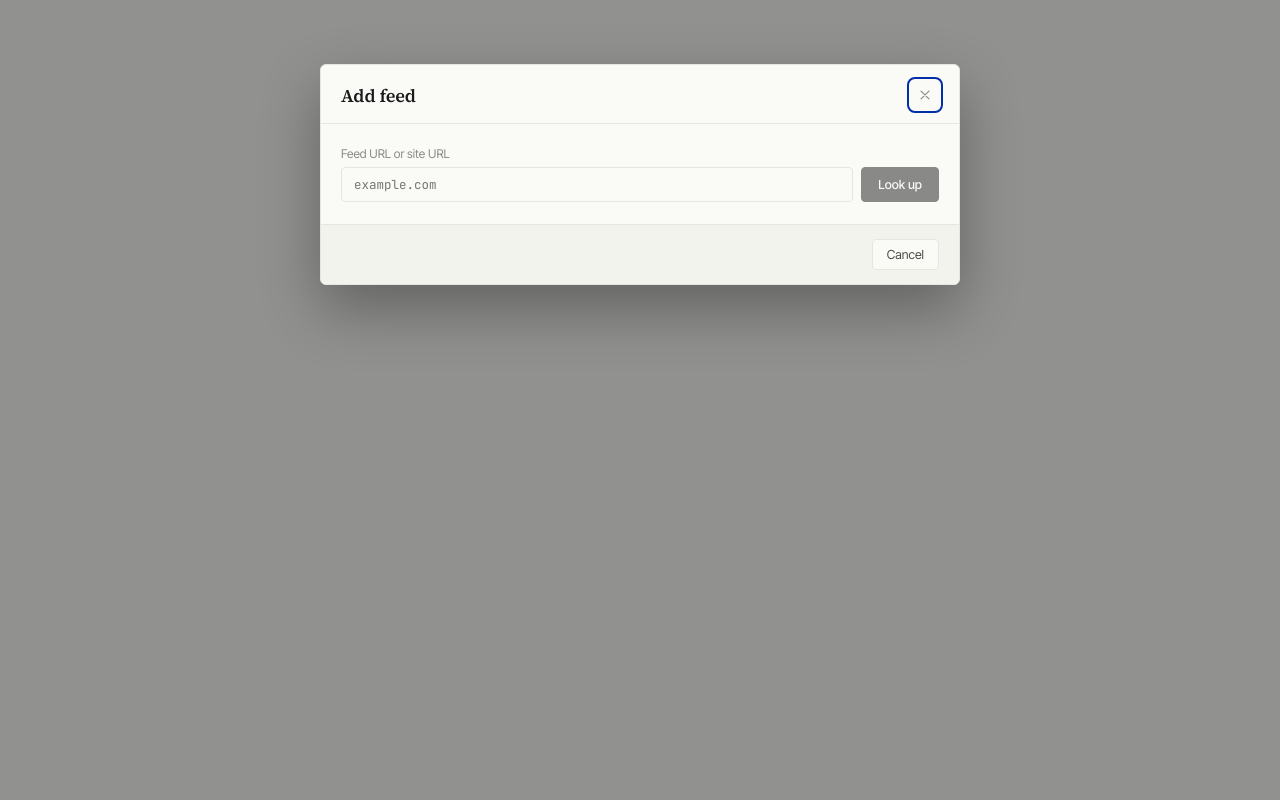
Test: AddFeedDialog — discovery results › zero candidates: shows "No feeds found" inline
This screenshot has width=1280, height=800.
Type "https://nothing/" into the field with placeholder "example.com" at (597, 184), box [341,167,853,202]
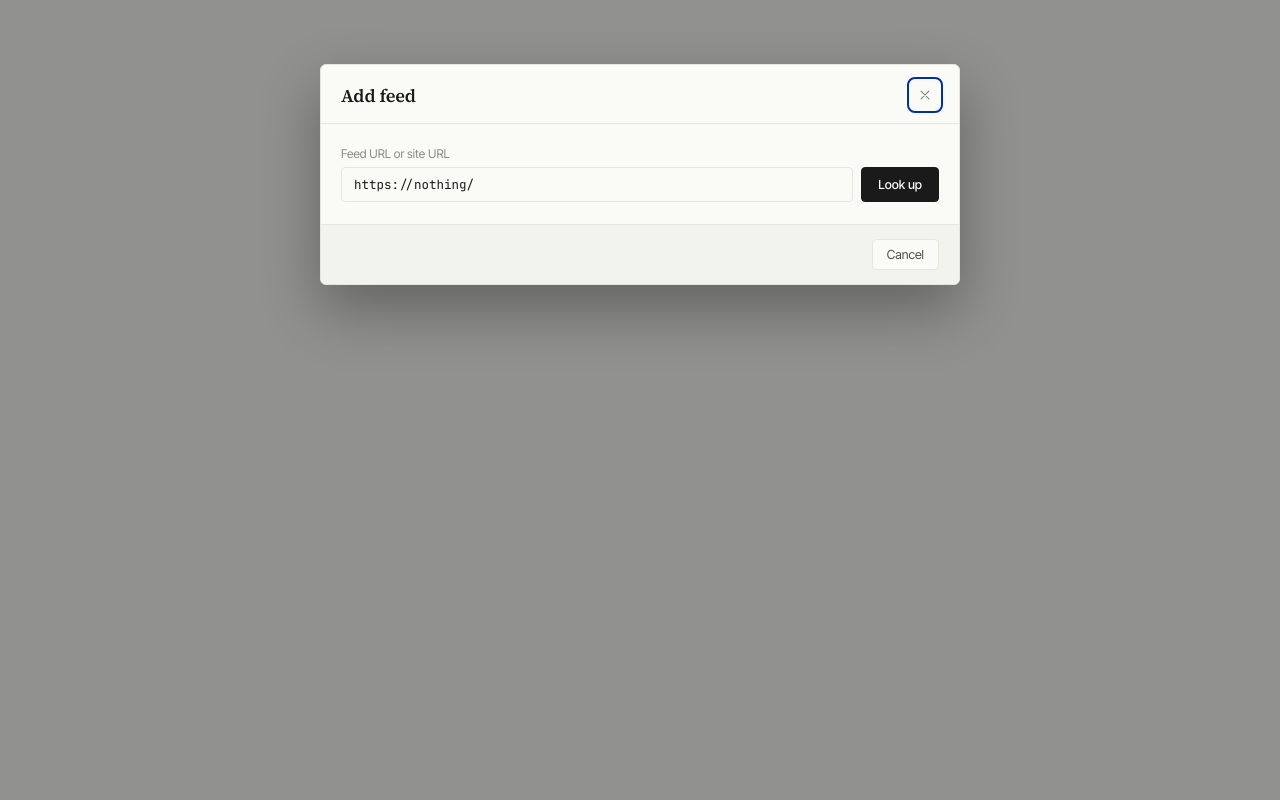
Click the button "Look up" at (900, 184), box [861,167,939,202]
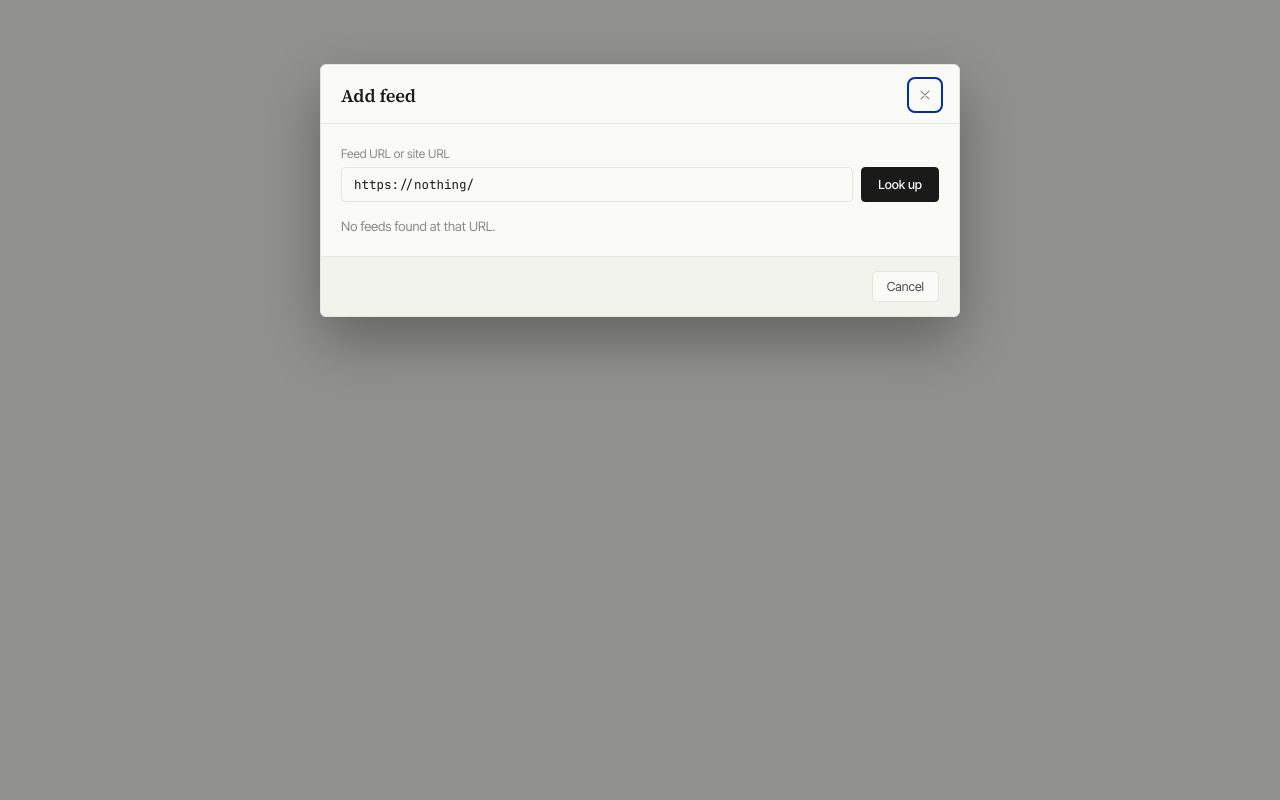
Check: the text "No feeds found at that URL." is shown, box [341,218,495,234]
